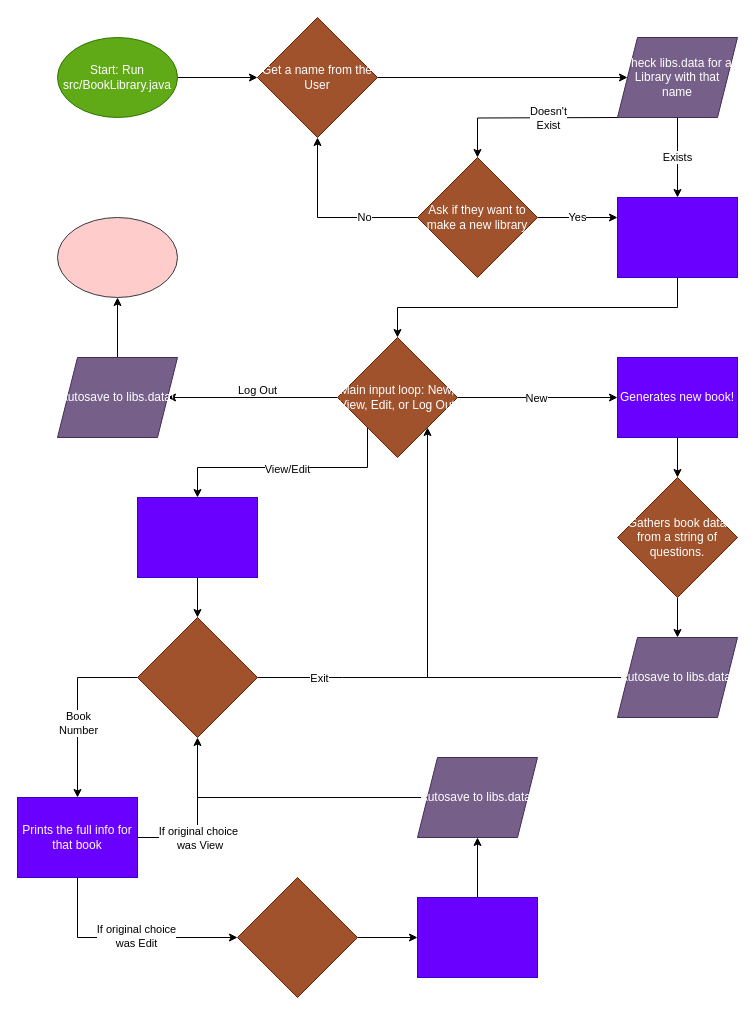
This 755x1015 diagram has some shape labels left out. The shapes that lost their labels are listed below. From the top down, each one's centre as x and y in pixels, then its label:
the point at 117,257: End
the point at 677,237: Log in with that name
the point at 197,537: Print whole library with books numbered
the point at 197,677: Asks User to pick a book('s number) or Exit
the point at 297,937: Asks User what they want to change
the point at 477,937: Changes it
